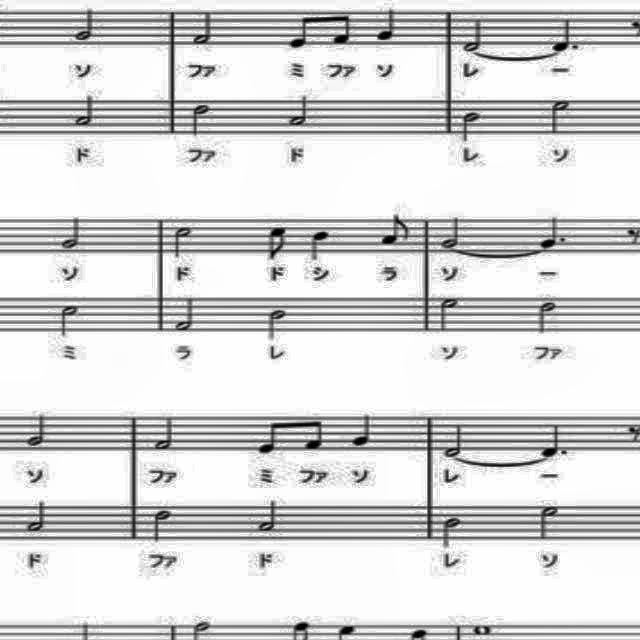Eighth-note: (280, 10, 318, 52), (298, 413, 330, 457), (381, 212, 413, 252), (255, 418, 287, 458), (262, 221, 290, 265), (329, 6, 355, 48)
Half-note: (188, 8, 224, 48), (280, 91, 316, 131), (164, 222, 196, 262), (170, 294, 202, 334), (58, 215, 88, 257), (261, 302, 291, 342), (254, 494, 282, 536), (532, 501, 560, 541), (437, 423, 467, 459), (456, 108, 484, 146), (150, 412, 178, 450), (71, 90, 97, 130), (546, 96, 572, 136), (535, 298, 561, 338), (24, 410, 50, 450), (434, 512, 462, 548), (462, 17, 488, 55), (188, 102, 212, 142), (24, 496, 48, 536), (74, 6, 98, 44), (440, 215, 464, 253), (438, 294, 462, 332), (151, 505, 175, 543), (58, 302, 82, 338)
Quarter-dot: (548, 17, 586, 55), (536, 215, 572, 253), (538, 421, 574, 459)
Quarter-note: (368, 4, 400, 44), (306, 224, 334, 264), (349, 411, 375, 449)
